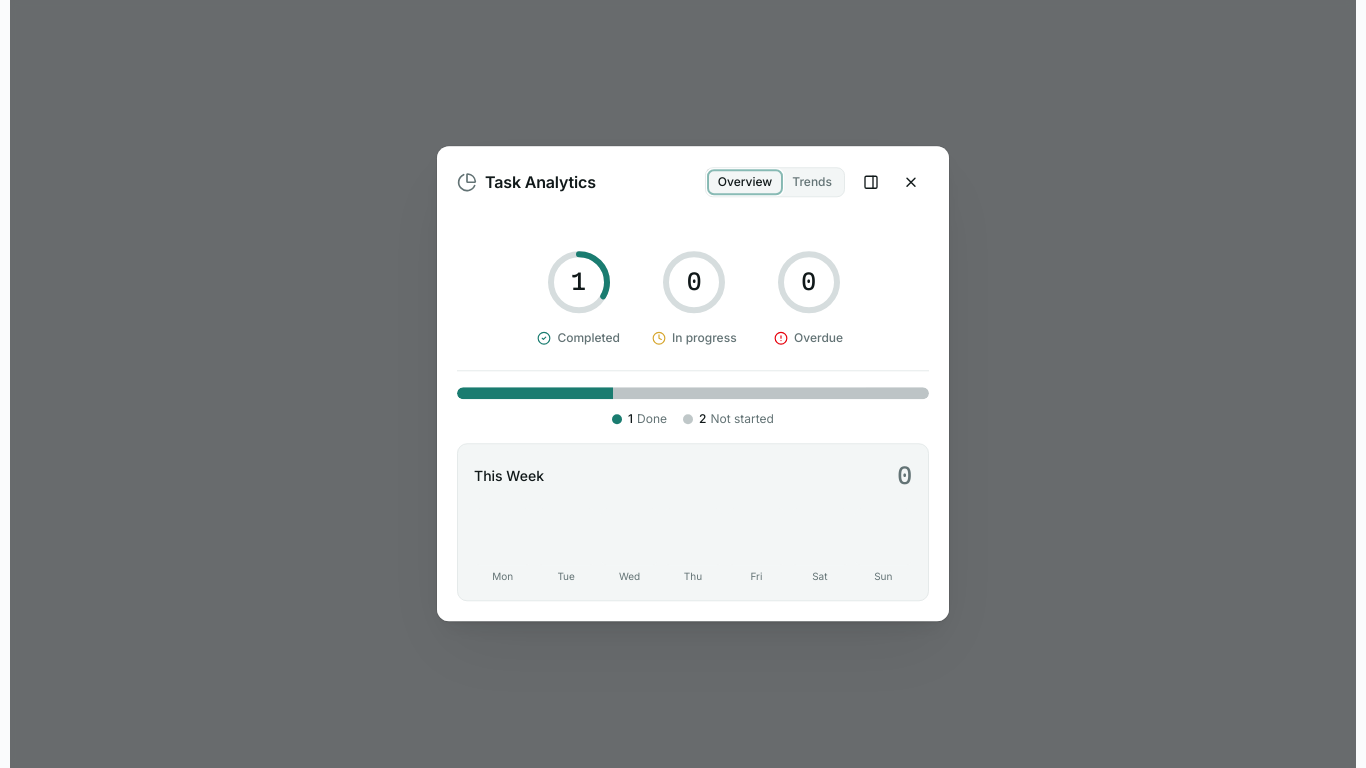
Scenario: TaskAnalyticsDialog › should render time range controls
What coordinates should you click on to do the following:
click the button "Trends"
I would click on:
 (812, 182)
Its box is [782,170,842,194].
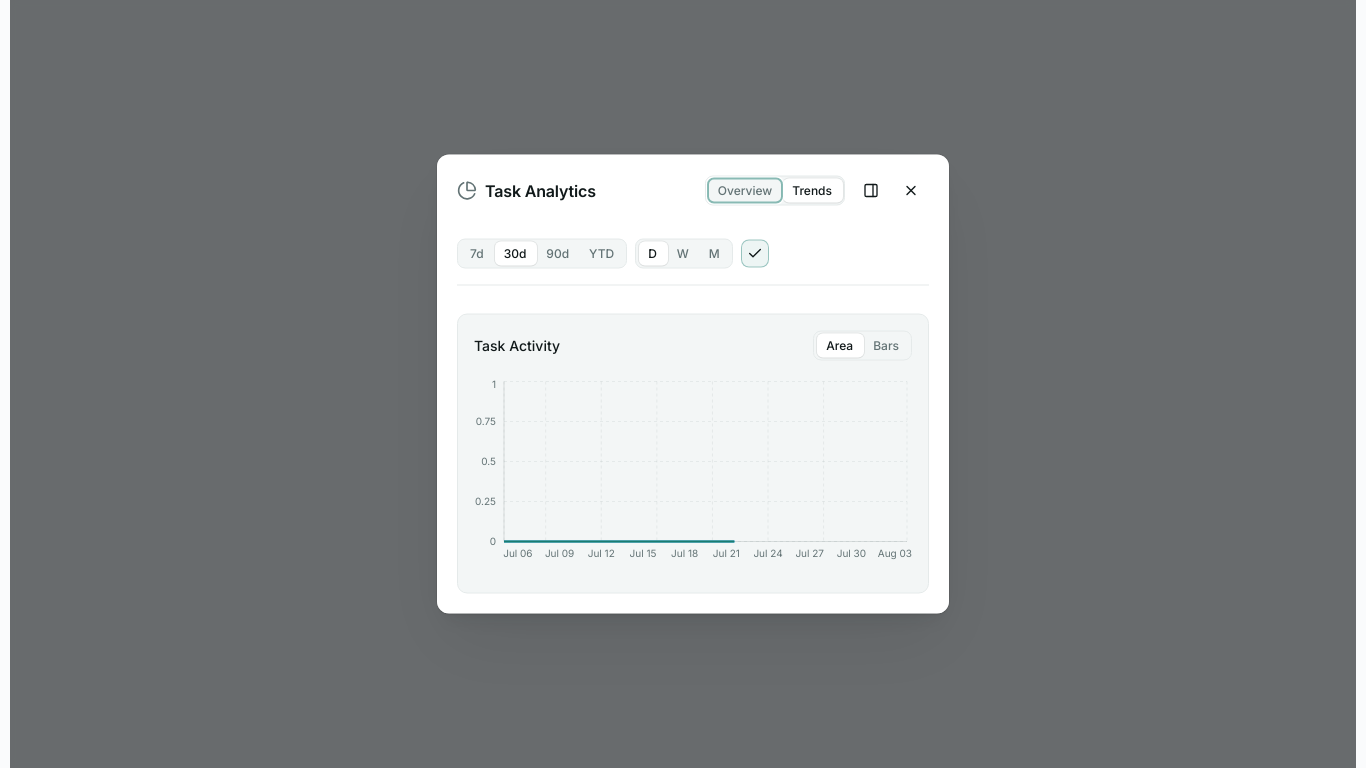
Expected: the button "7d" is shown, [460,242,494,266]
Expected: the button "30d" is shown, [494,242,536,266]
Expected: the button "90d" is shown, [536,242,579,266]
